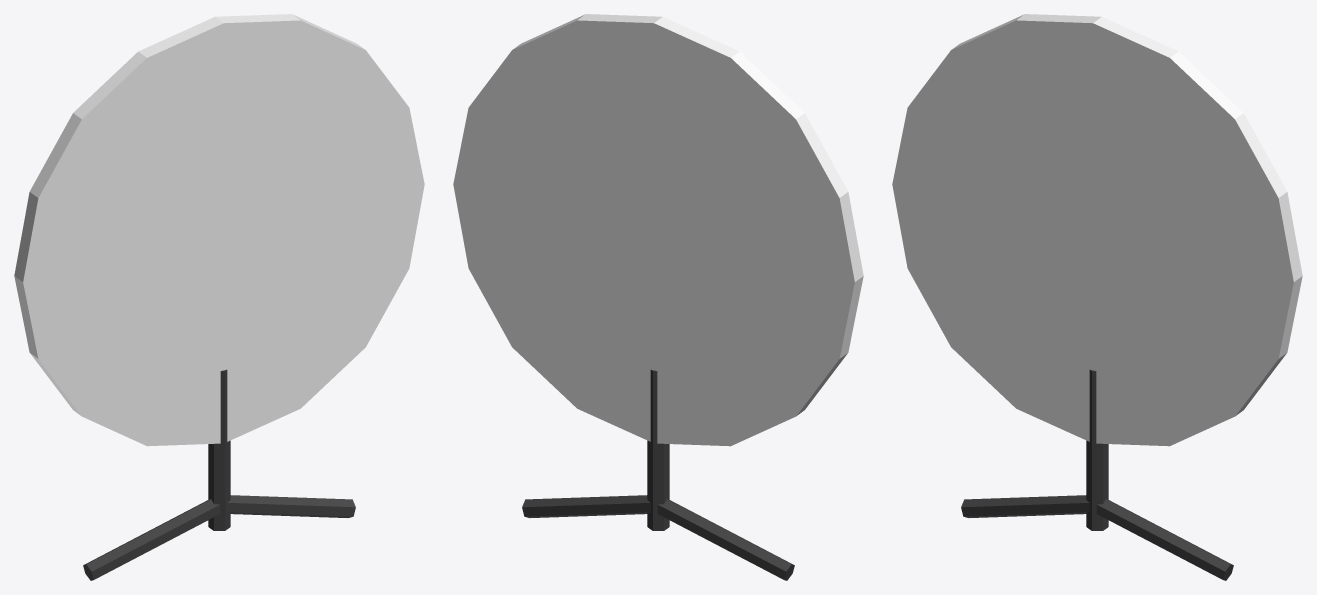
3 views of the same model, side by side, from view 1: azimuth 30°, elevation 25°; view 2: azimuth 150°, elevation 25°; view 3: azimuth 330°, elevation 25° (orthographic).
Visible parts, largest first — view 1: Reflector, Foot, Foot.001, Stand; view 2: Reflector, Foot, Foot.001, Stand; view 3: Reflector, Foot.001, Foot, Stand.
Boxes of the visible parts, <box> form: Reflector: <box>14,14,424,446</box>; Foot: <box>83,499,220,580</box>; Foot.001: <box>227,495,355,517</box>; Stand: <box>208,369,230,530</box>; Reflector: <box>453,14,863,446</box>; Foot: <box>657,499,794,580</box>; Foot.001: <box>522,495,650,517</box>; Stand: <box>647,369,669,530</box>; Reflector: <box>892,14,1302,446</box>; Foot.001: <box>1096,499,1233,580</box>; Foot: <box>961,495,1089,517</box>; Stand: <box>1086,369,1108,530</box>.
Bounding box in the file's own units: 0.92 × 1.16 × 0.044.
1 material, 1 textured.
